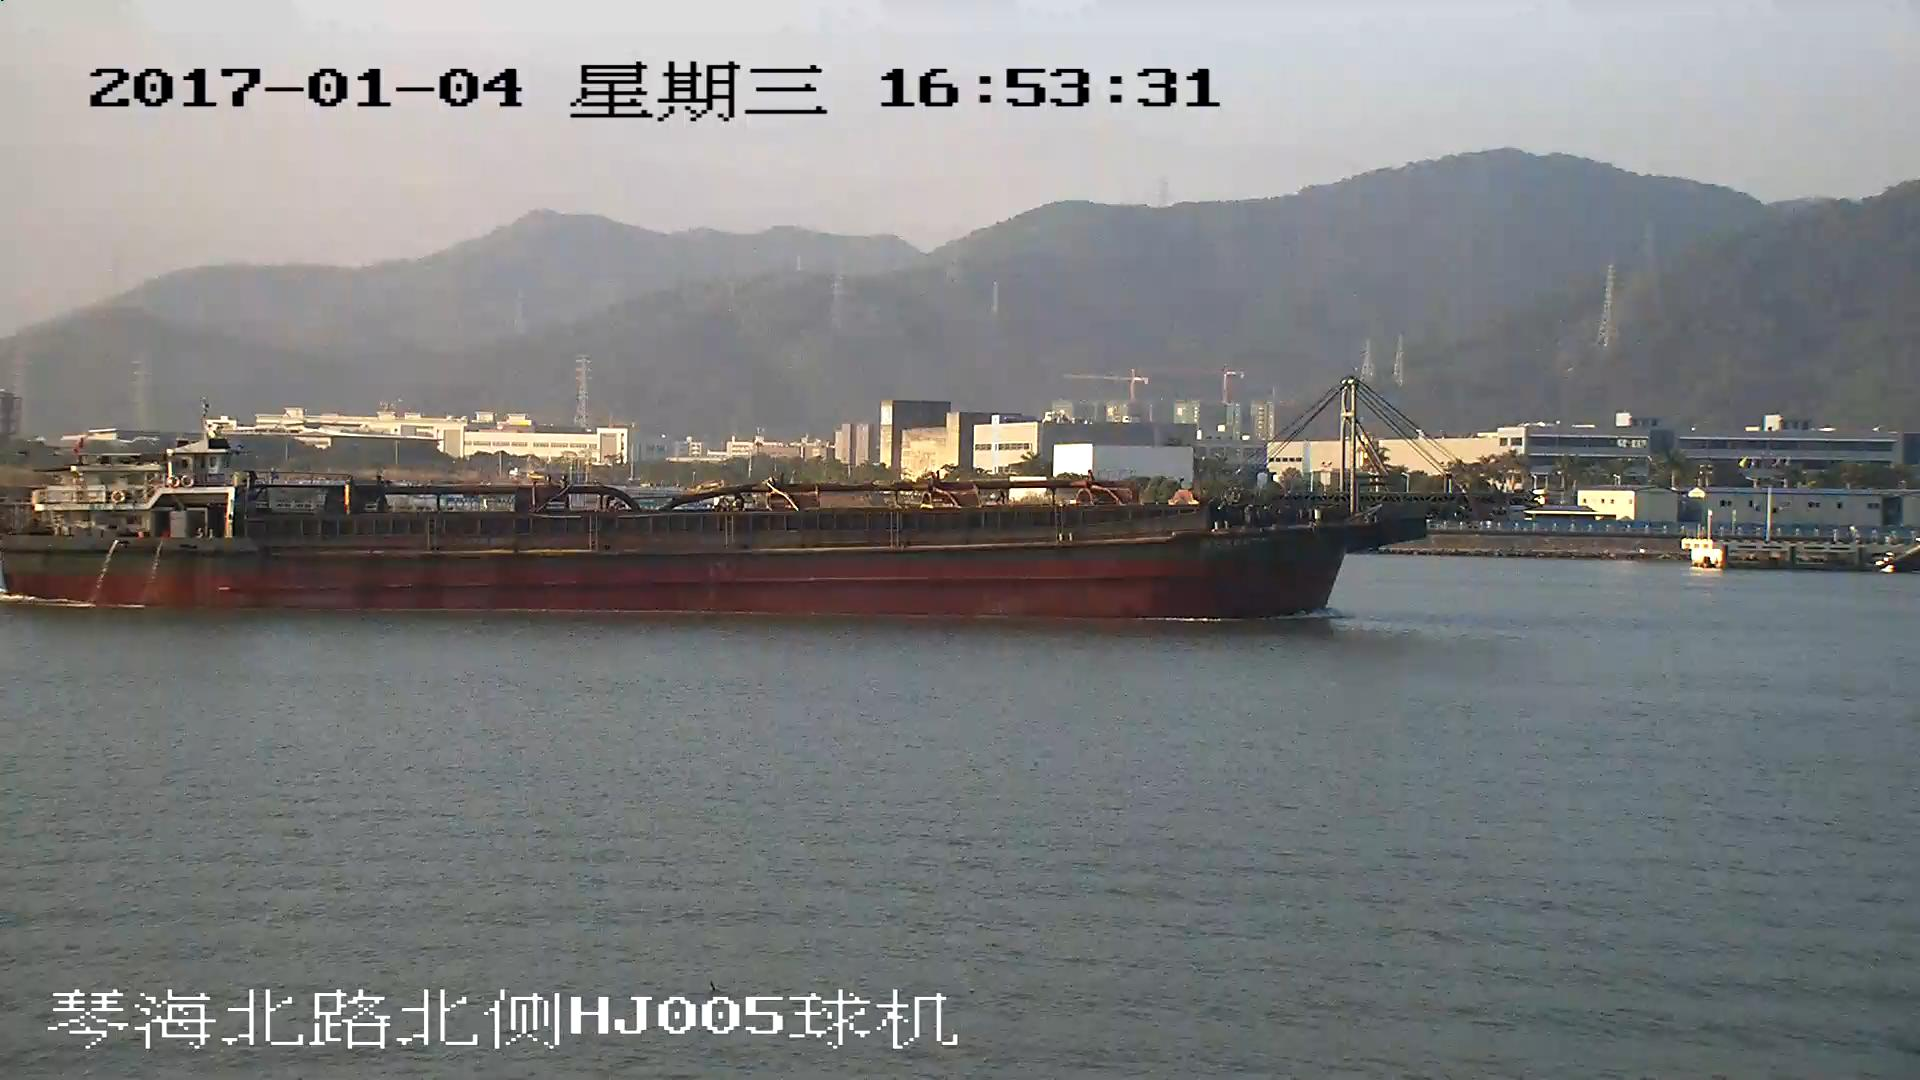bulk cargo carrier: (1, 380, 1526, 613)
